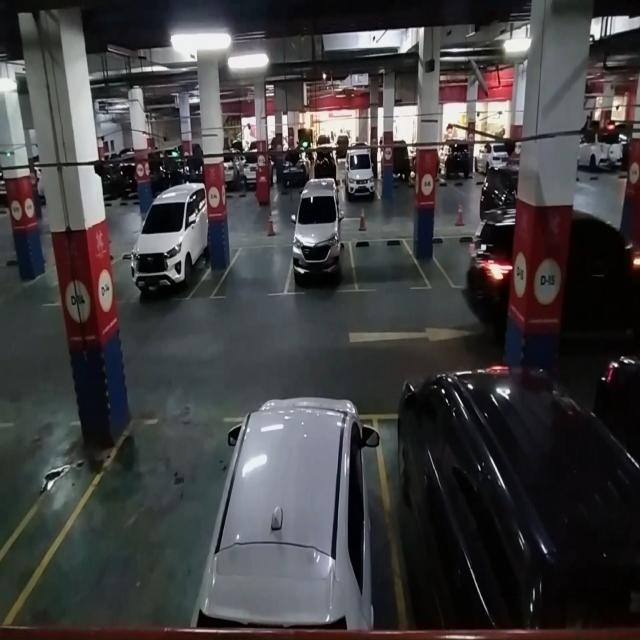empty: (56, 411, 203, 628), (218, 241, 290, 298), (352, 234, 420, 291)
occupied: (386, 392, 607, 626), (218, 410, 388, 629), (130, 194, 200, 302), (290, 208, 354, 296)
